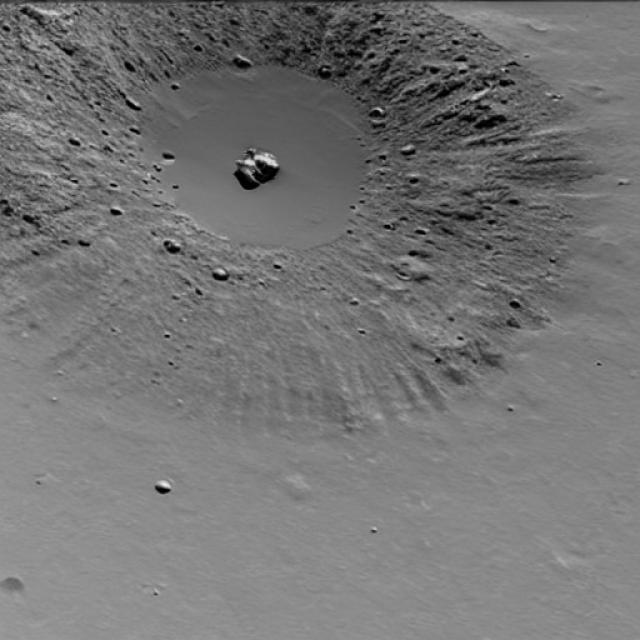crater: (2, 1, 584, 431)
